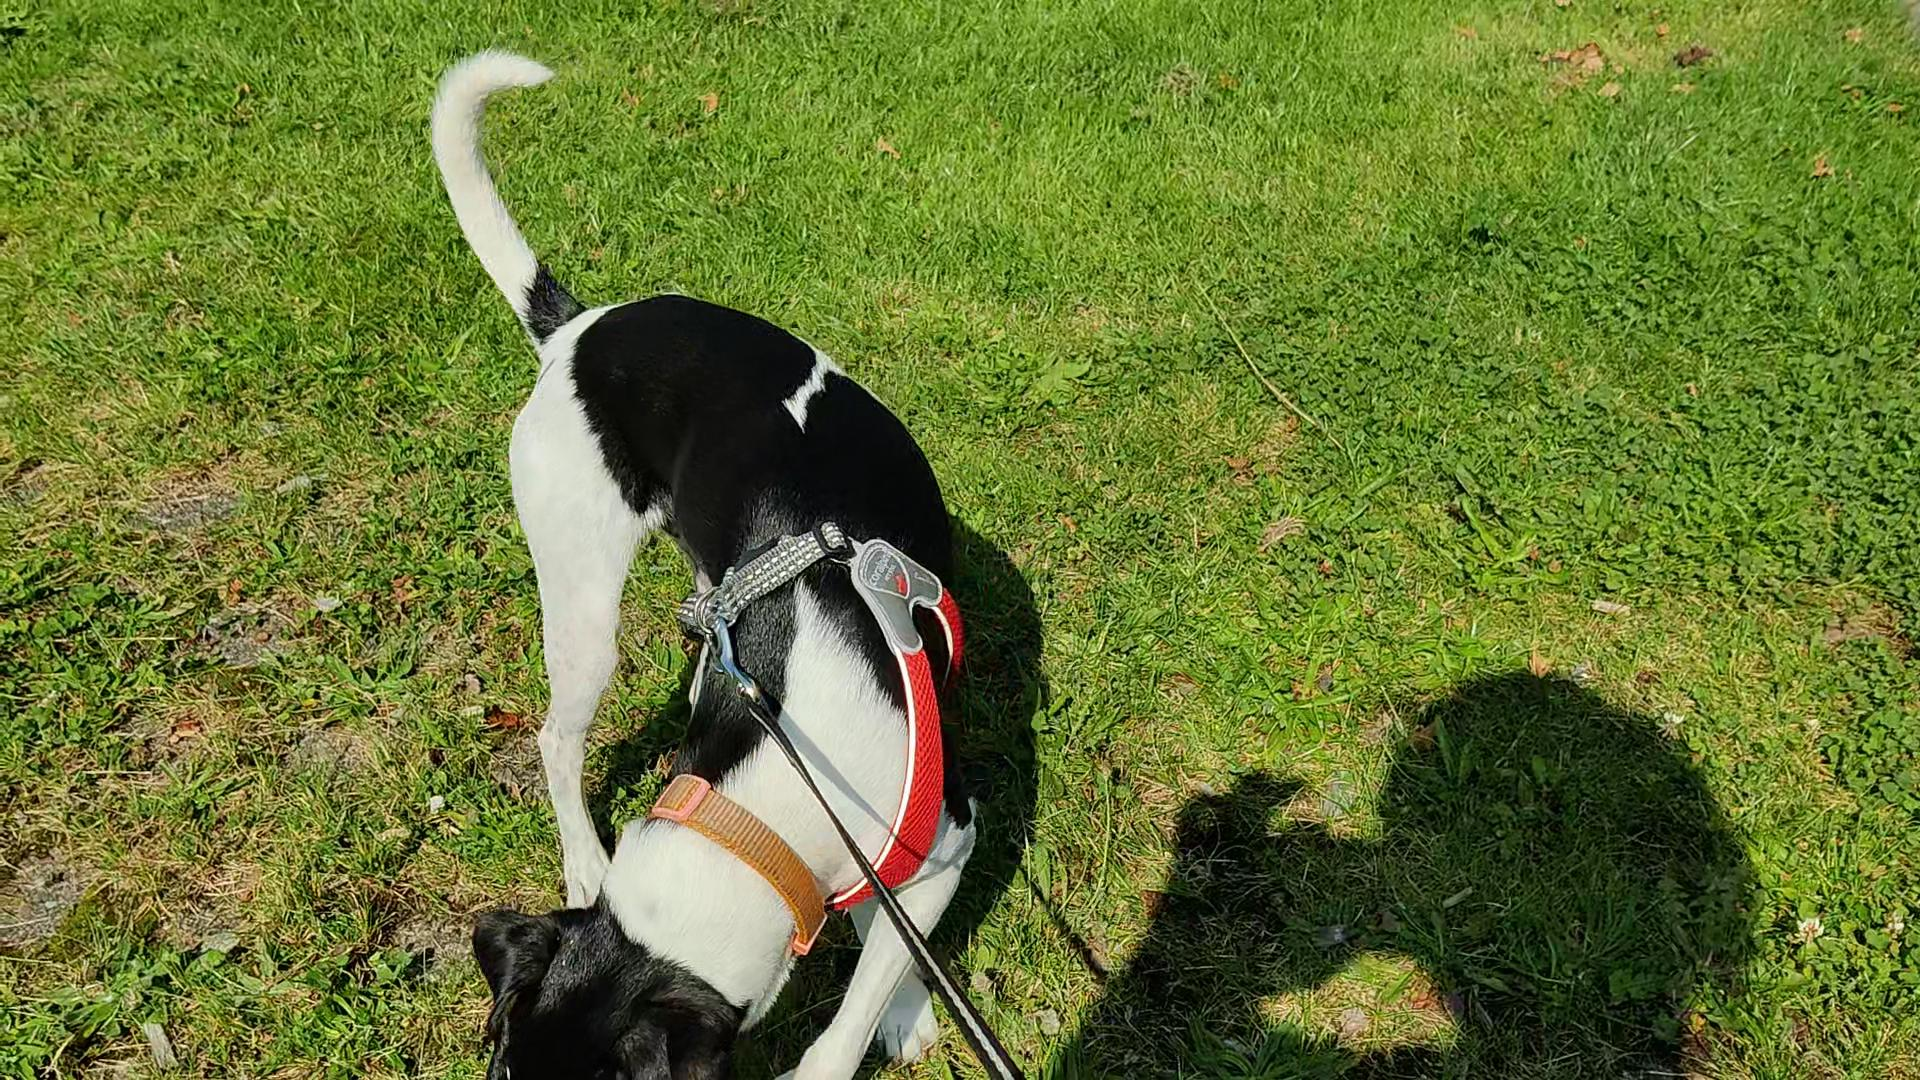Dog: (400, 40, 1021, 1079)
